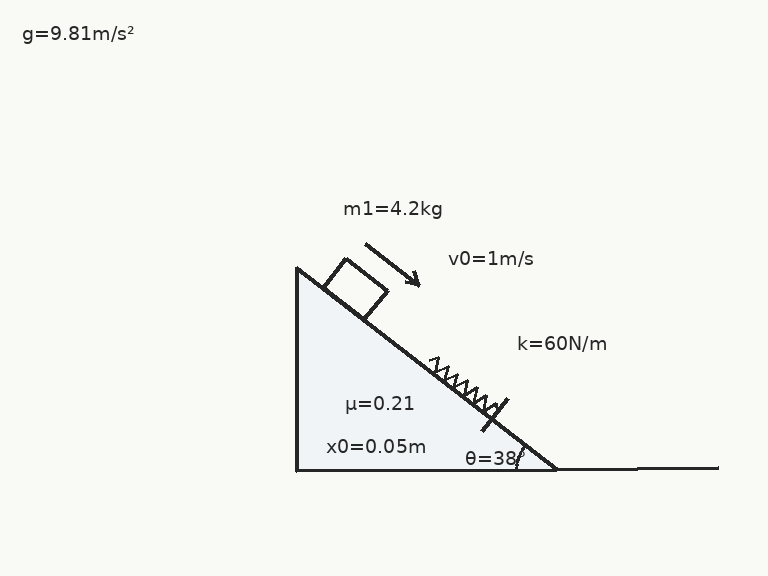block: (321, 256, 388, 321)
ramp: (294, 265, 558, 472)
spring: (427, 356, 499, 414)
